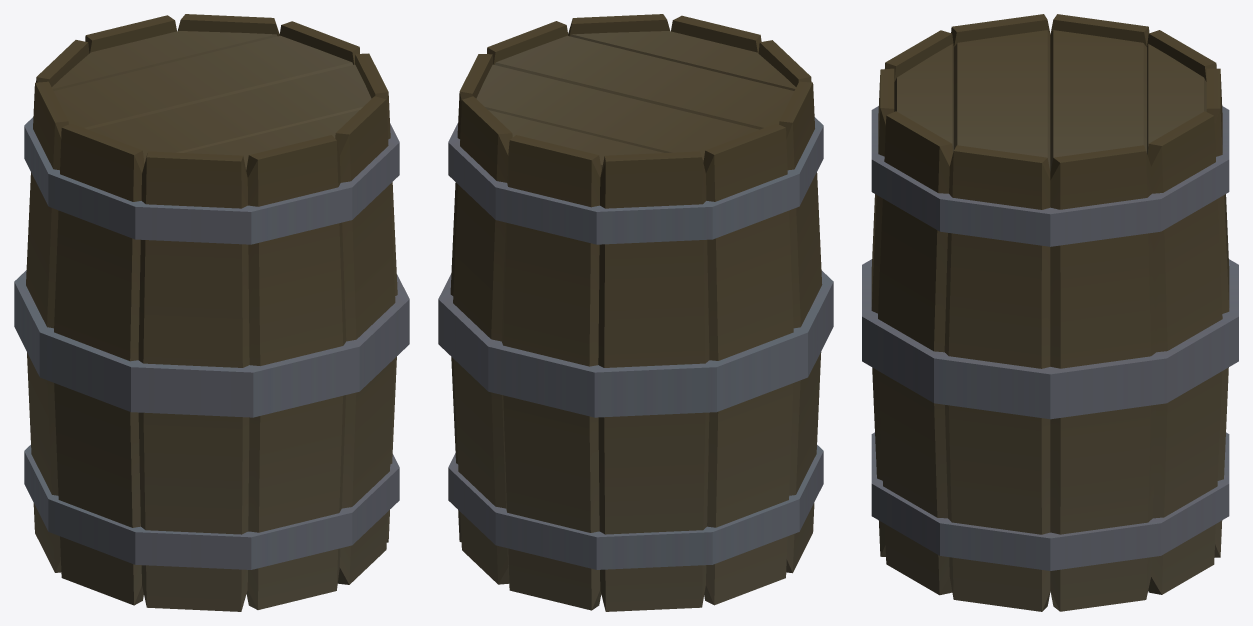
Rendered from Barrel_3.fbx.
The picture shows the model from 3 angles, left to right: view 1: azimuth 30°, elevation 25°; view 2: azimuth 150°, elevation 25°; view 3: azimuth 270°, elevation 25°; orthographic projection.
Parts seen in each view (by area): view 1: polySurface9641; view 2: polySurface9641; view 3: polySurface9641.
Boxes of the visible parts, x1,y1,x2,y2 form: polySurface9641: (14, 14, 409, 611); polySurface9641: (438, 14, 833, 611); polySurface9641: (862, 14, 1238, 611).
Size of the model in its own units: 144 by 180 by 137.
